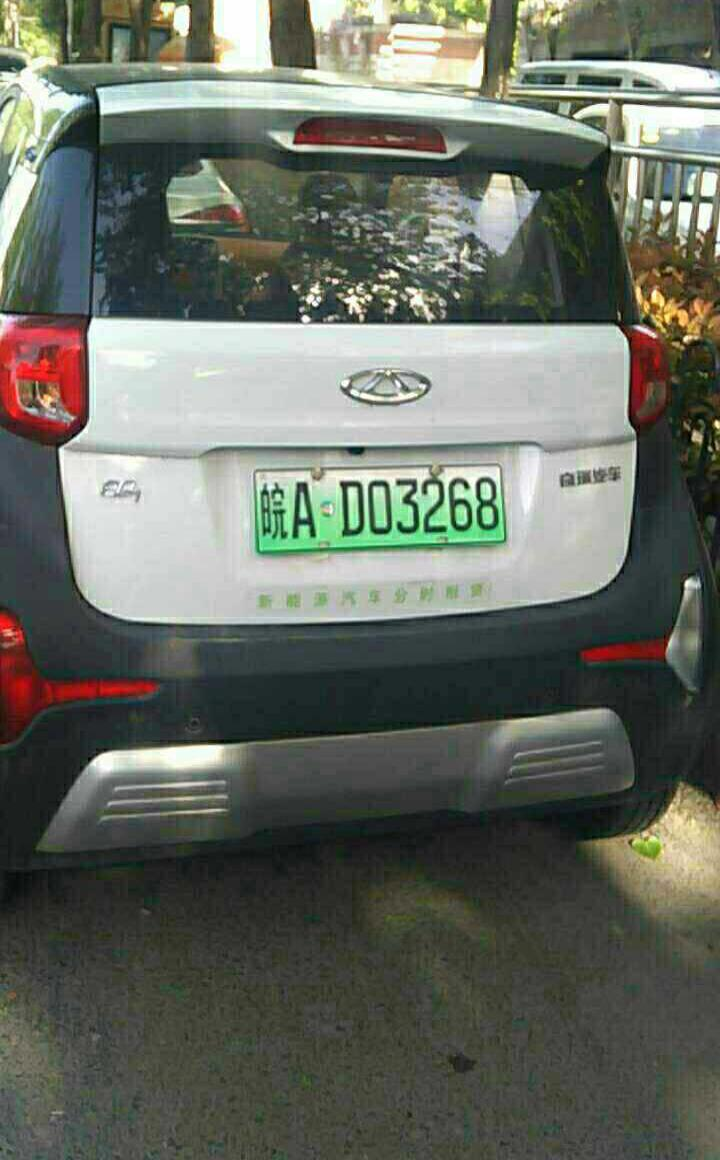car: (246, 468, 509, 542)
